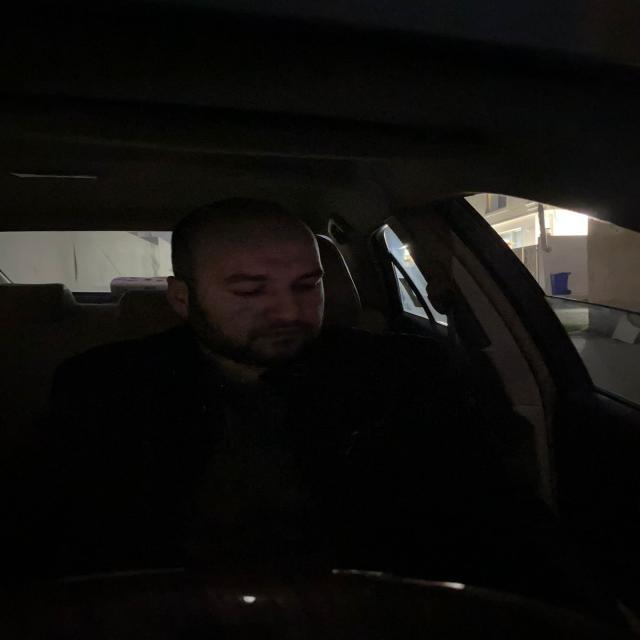drowsy: (166, 196, 342, 380)
